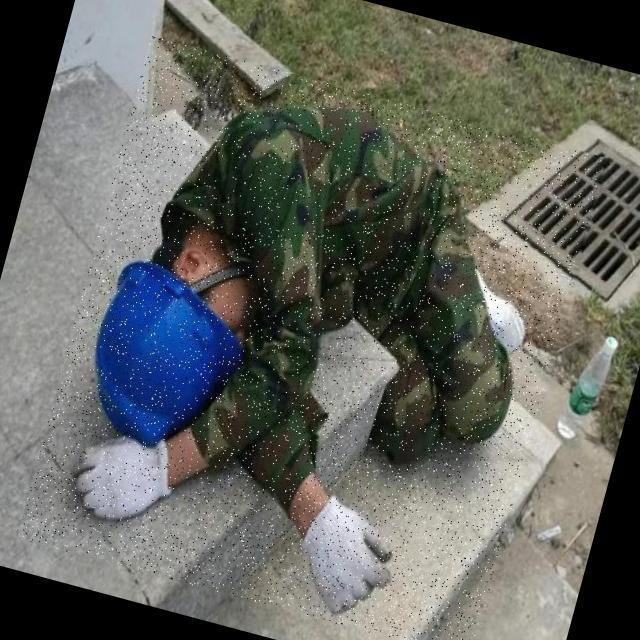Gloves: (263, 503, 427, 623), (63, 433, 195, 537)
Helmet: (60, 249, 266, 467)
Person: (38, 98, 615, 621)
Safety Boot: (450, 253, 551, 365)
no-vest: (162, 108, 469, 314)
